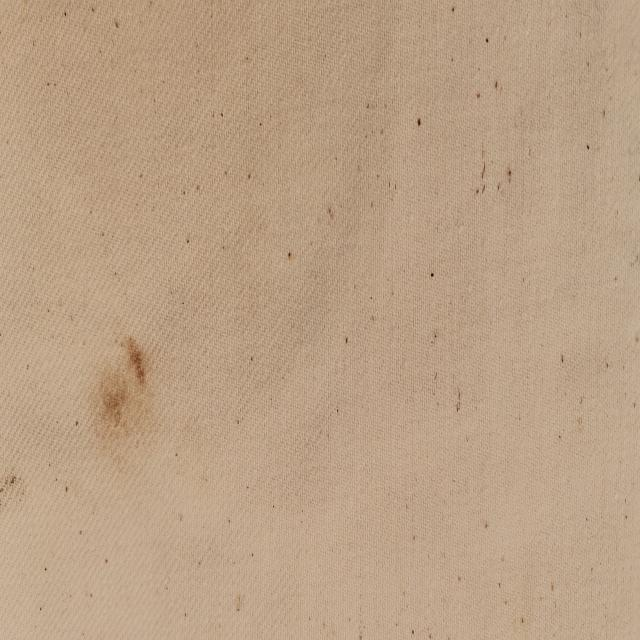taaaches: (95, 338, 147, 444), (2, 465, 23, 513)
